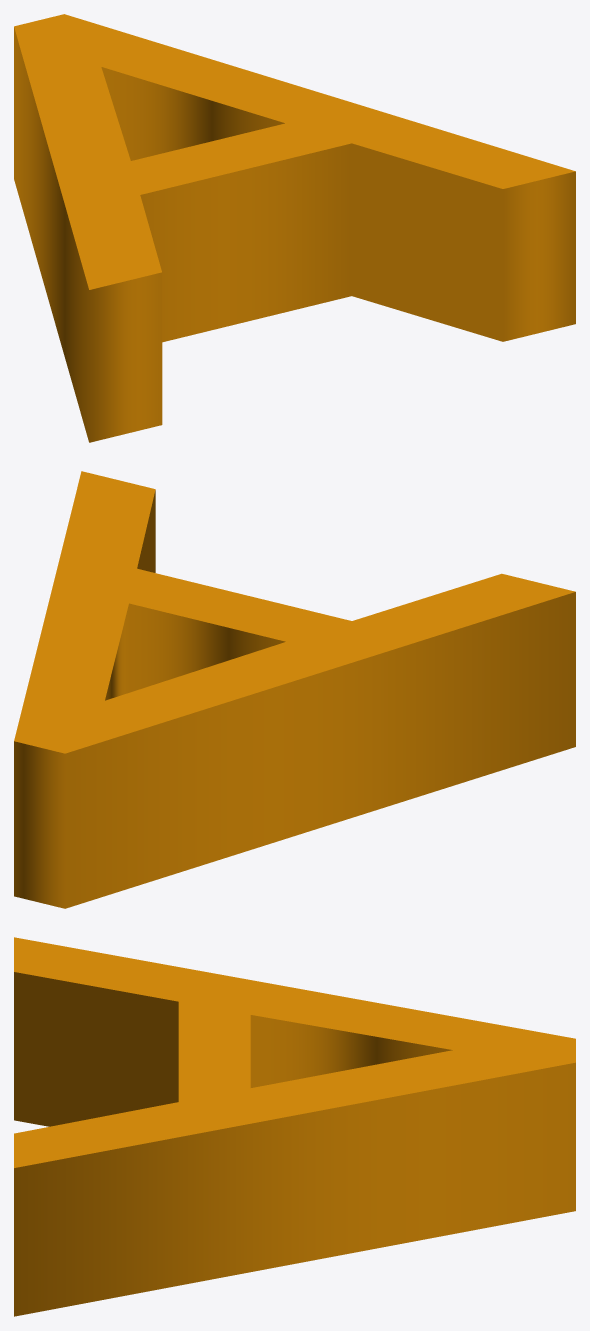
3 renders of one model, top to bottom at view 1: azimuth 30°, elevation 25°; view 2: azimuth 150°, elevation 25°; view 3: azimuth 270°, elevation 25°, orthographic. The views are drawn at different scales.
Parts seen in each view (by area): view 1: Text; view 2: Text; view 3: Text.
Boxes of the visible parts, x1,y1,x2,y2 form: Text: (14, 14, 575, 442); Text: (14, 471, 575, 908); Text: (14, 937, 575, 1316).
Size of the model in its own units: 0.667 by 0.686 by 0.2.
